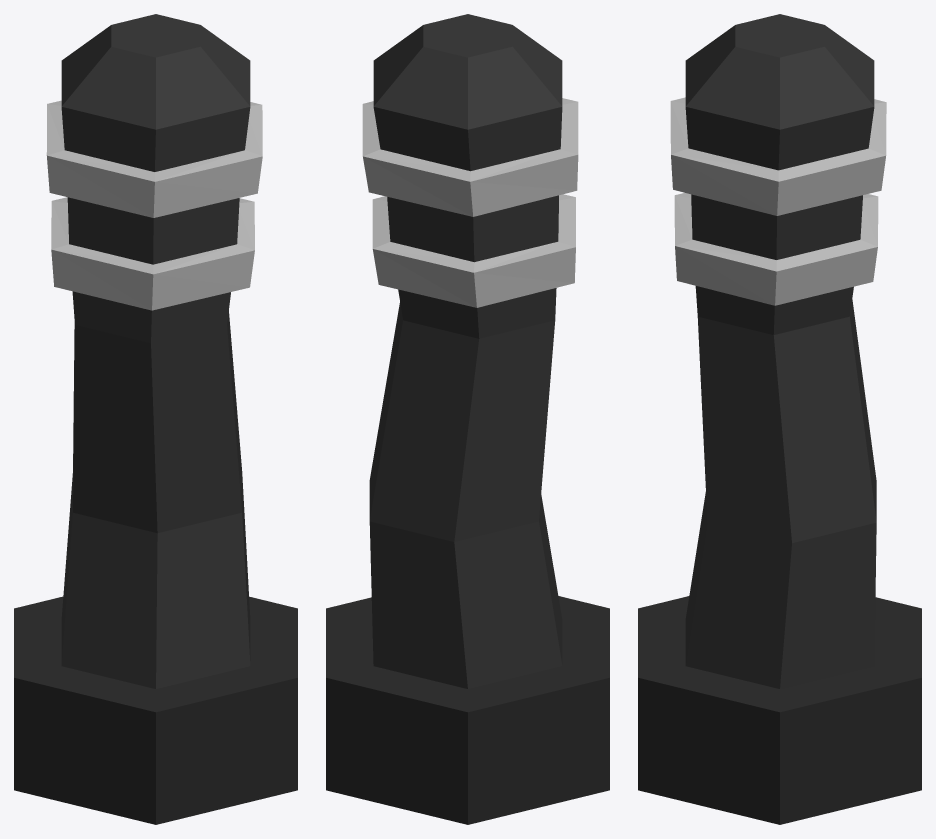
Rendered from Fence_02.FBX.
3 views of the same model, side by side, from view 1: azimuth 30°, elevation 25°; view 2: azimuth 150°, elevation 25°; view 3: azimuth 270°, elevation 25° (orthographic).
Visible parts, largest first — view 1: Fence_02; view 2: Fence_02; view 3: Fence_02.
Boxes of the visible parts, x1=… form: Fence_02: x1=14, y1=14, x2=297, y2=824; Fence_02: x1=326, y1=14, x2=609, y2=824; Fence_02: x1=638, y1=14, x2=921, y2=824.
Size of the model in its own units: 0.4782 by 1.16 by 0.4141.
